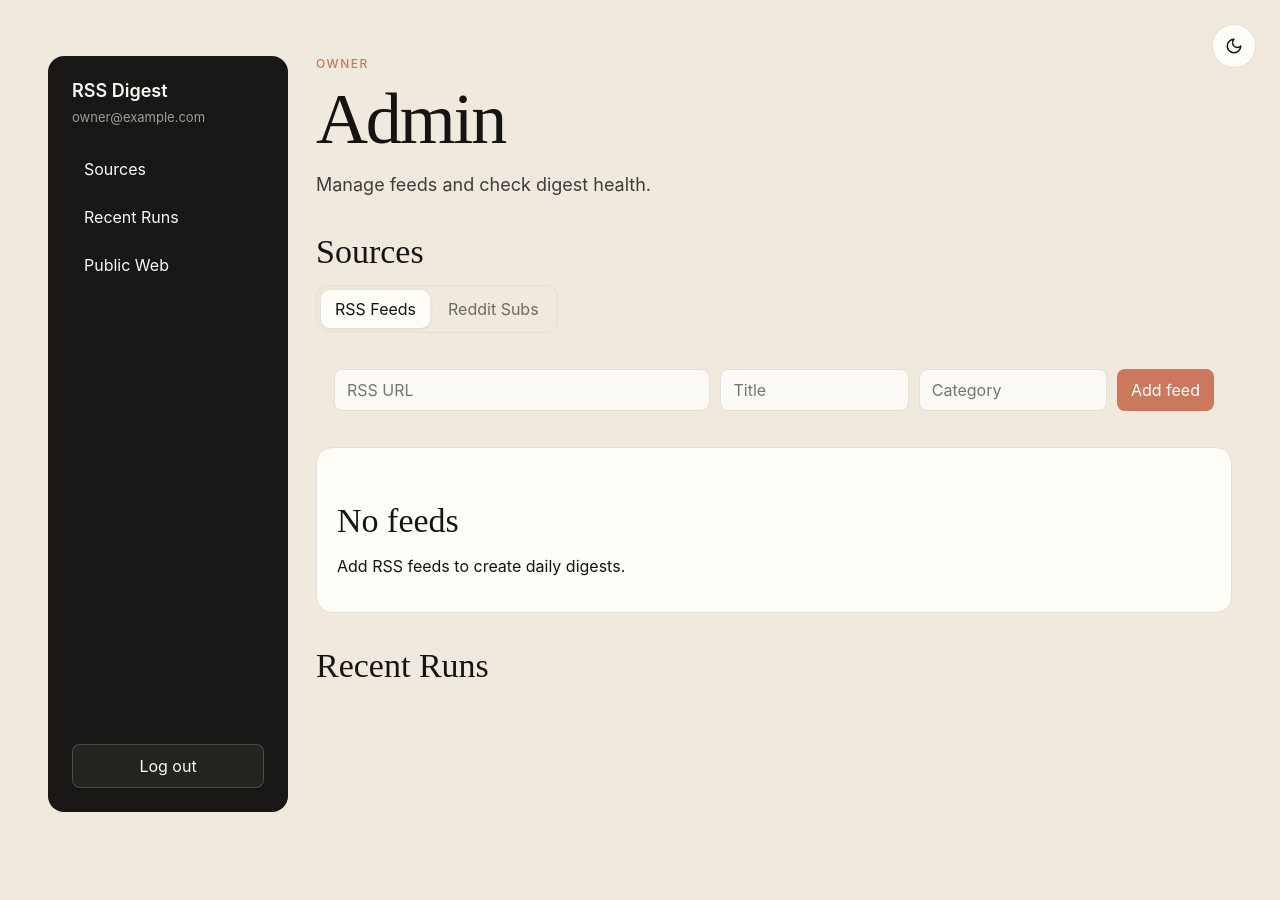
Scenario: App › logs out from the admin sidebar
This screenshot has width=1280, height=900.
Click the button "Log out".
click(168, 766)  # box x1=72 y1=744 x2=264 y2=788
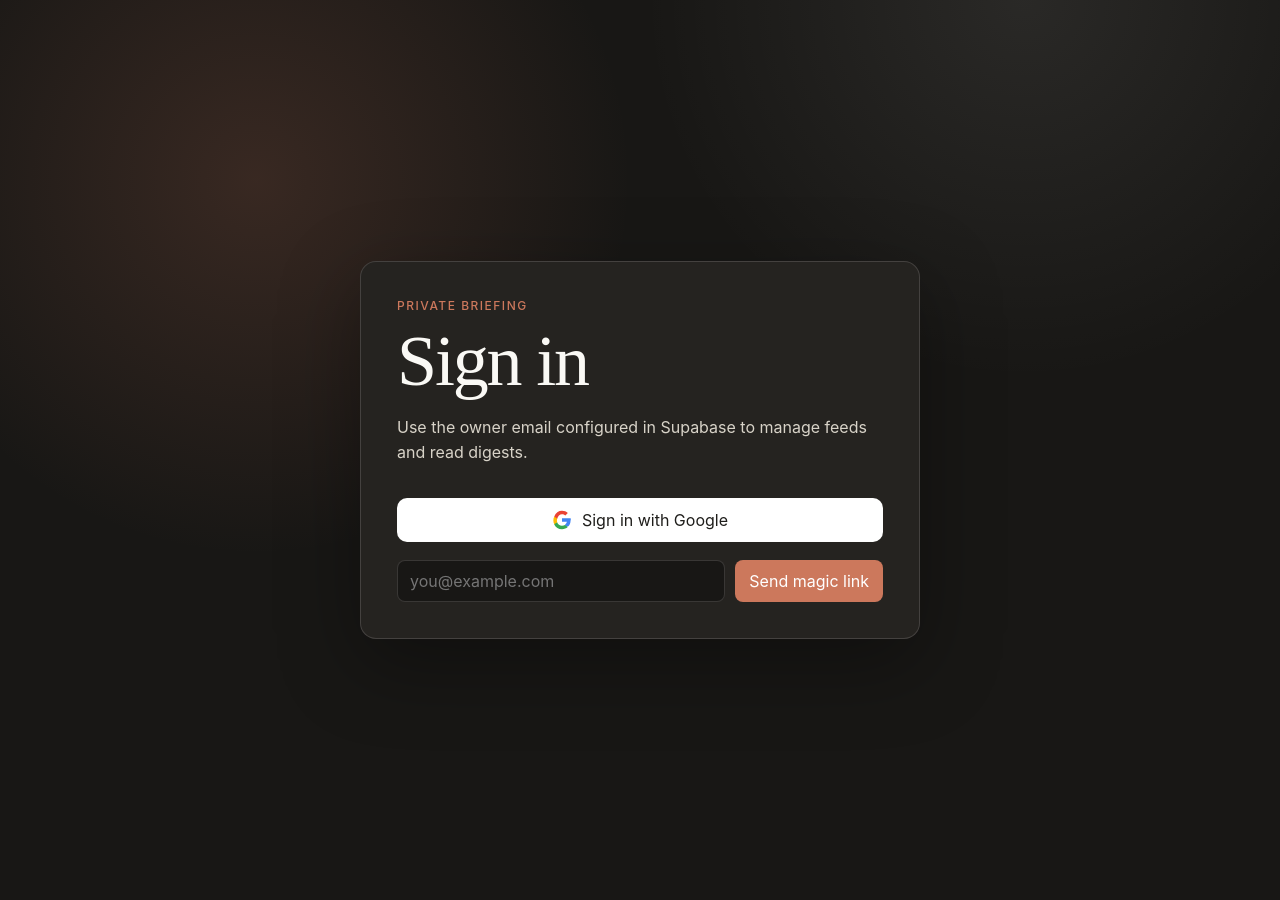
Expected: the heading "Sign in" is shown, x1=397 y1=320 x2=588 y2=400
